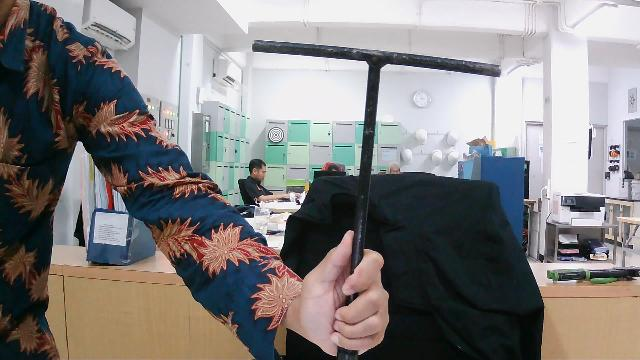kunci_t: (245, 26, 505, 360)
